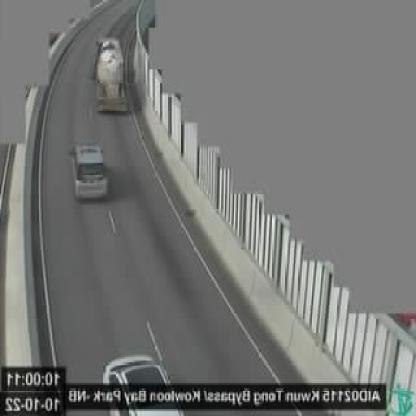Car: (102, 352, 182, 405), (69, 141, 108, 201)
Truck: (90, 26, 132, 115)
